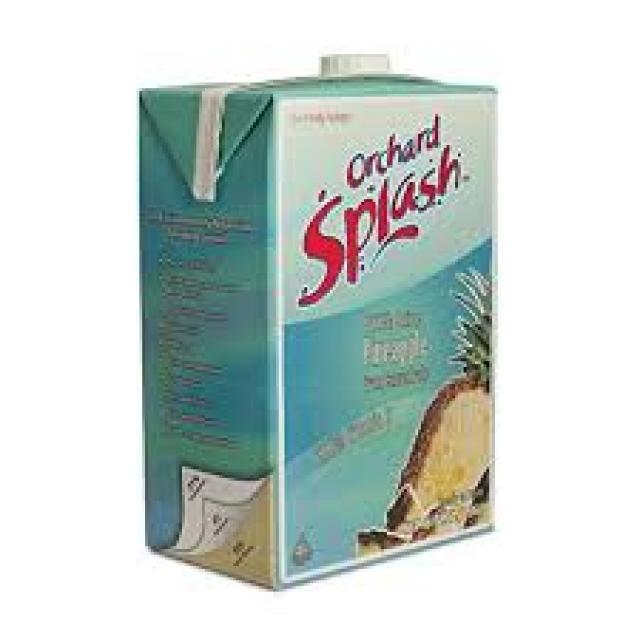non_white_jug: (115, 54, 502, 595)
